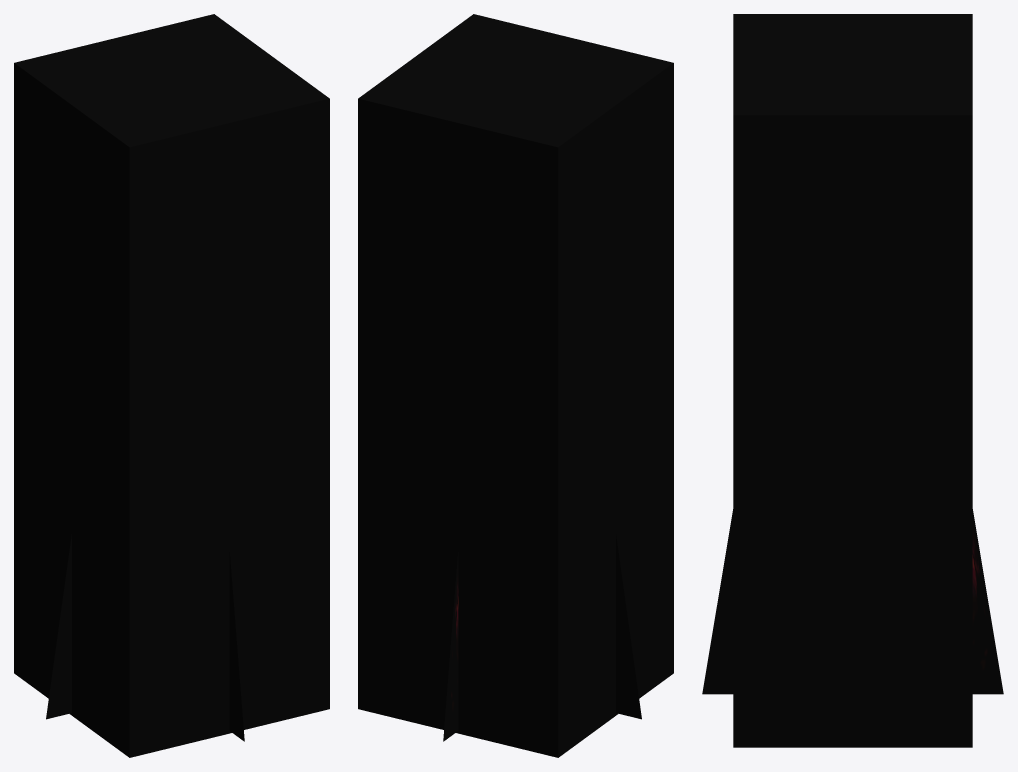
The model's file is flame.obj.
3 views of the same model, side by side, from view 1: azimuth 30°, elevation 25°; view 2: azimuth 150°, elevation 25°; view 3: azimuth 270°, elevation 25° (orthographic). The views are drawn at different scales.
Visible parts, largest first — view 1: flame_fire_alphaharsh_backface; view 2: flame_fire_alphaharsh_backface; view 3: flame_fire_alphaharsh_backface.
Part boxes in pixels (<box>): flame_fire_alphaharsh_backface: <box>14,14,329,757</box>; flame_fire_alphaharsh_backface: <box>358,14,673,757</box>; flame_fire_alphaharsh_backface: <box>702,14,1003,747</box>.
Size of the model in its own units: 0.6242 by 1.44 by 0.6242.
Materials: 2 (2 with a texture image).
